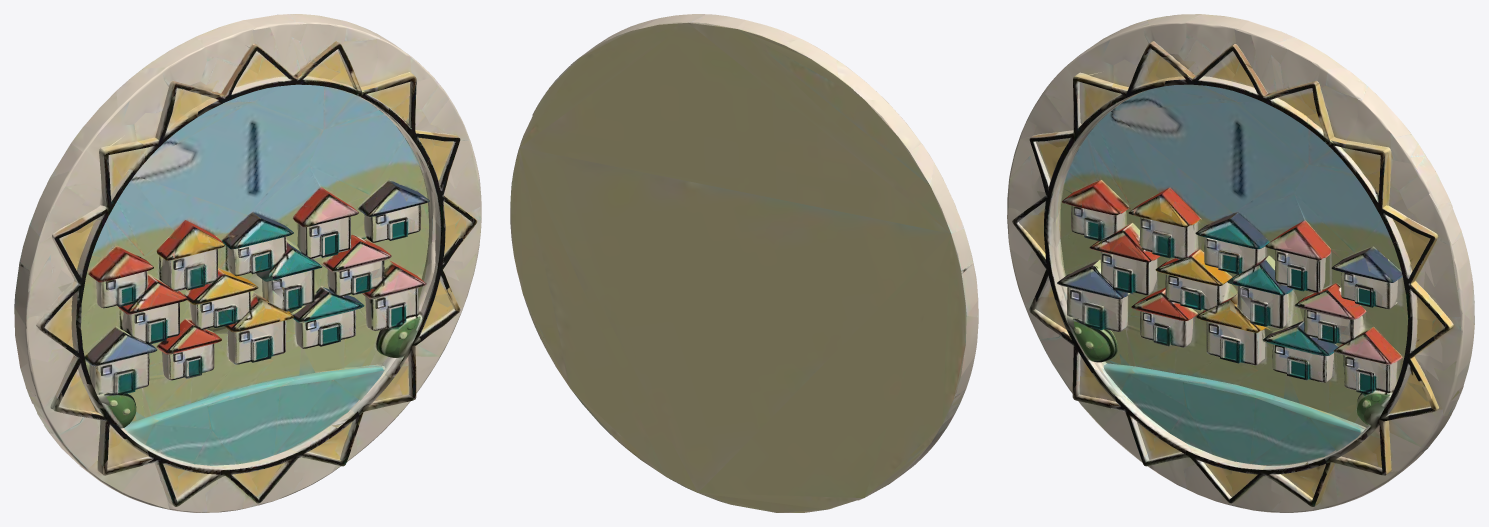
The model's file is pueblo.glb.
3 renders of one model, left to right at view 1: azimuth 30°, elevation 25°; view 2: azimuth 150°, elevation 25°; view 3: azimuth 330°, elevation 25°, orthographic.
Bounding box in the file's own units: 1.9 × 1.9 × 0.1647.
Materials: 1 (1 with a texture image).
